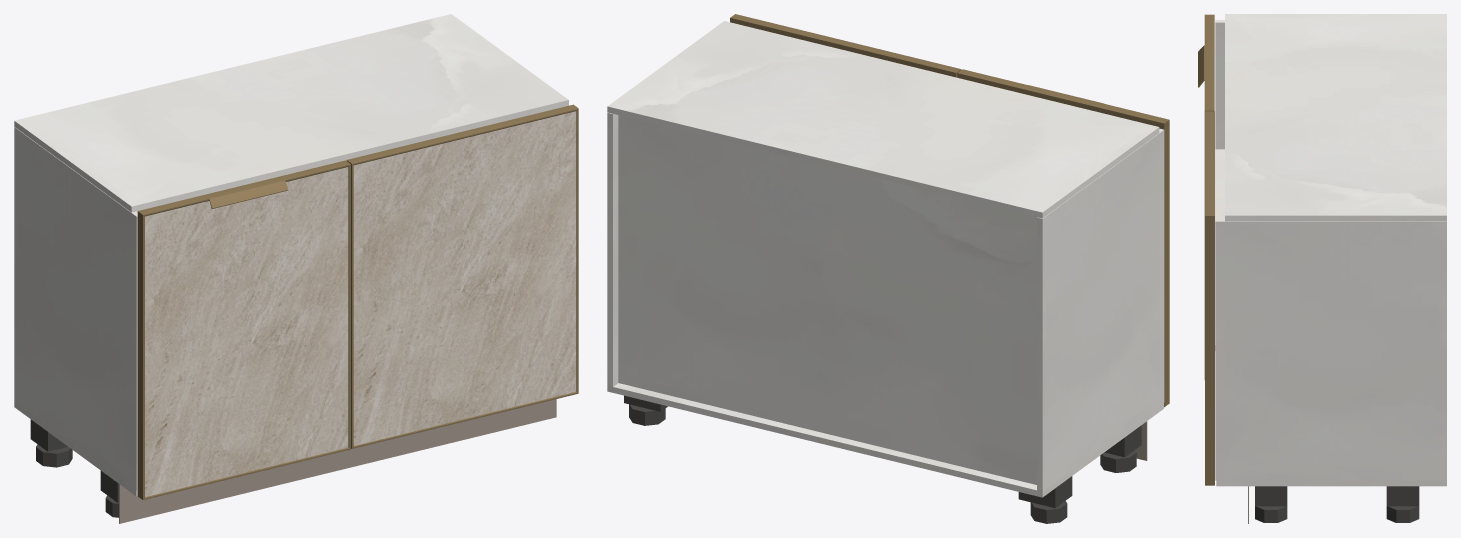
Rendered from BB-SH-TTS-ST-1SX-RHS-XXX-1150-720-560-15.glb.
The picture shows the model from 3 angles, left to right: view 1: azimuth 30°, elevation 25°; view 2: azimuth 150°, elevation 25°; view 3: azimuth 270°, elevation 25°; orthographic projection. The views are drawn at different scales.
Visible parts, largest first — view 1: Object_node_14, Object_node_12, TP_node_1, TP_node, Object_node_16, Extrusion_node_4, Extrusion_node_5, ExtrSplGeo, Extrusion_node, Extrusion_node_8, Extrusion_node_2, Extrusion_node_6 (+4 smaller); view 2: TP_node_3, TP_node_1, TP_node, TP, TP_node_0, Extrusion_node_5, Extrusion_node_4, Extrusion_node, ExtrSplGeo, Plate, Foot, Foot_node_0; view 3: TP_node_0, TP_node_1, Extrusion_node_6, TP, TP_node, Extrusion_node_5, TP_node_2, Plate_node, Plate_node_1, Extrusion_node, ExtrSplGeo, Foot_node (+1 smaller).
Boxes of the visible parts, x1,y1,x2,y2 form: Object_node_14: [353, 111, 576, 445]; Object_node_12: [145, 167, 348, 496]; TP_node_1: [14, 14, 568, 212]; TP_node: [14, 127, 137, 490]; Object_node_16: [119, 399, 556, 523]; Extrusion_node_4: [137, 211, 144, 499]; Extrusion_node_5: [347, 104, 578, 165]; ExtrSplGeo: [204, 176, 288, 208]; Extrusion_node: [138, 160, 350, 216]; Extrusion_node_8: [346, 160, 353, 448]; Extrusion_node_2: [348, 164, 350, 448]; Extrusion_node_6: [576, 109, 578, 392]; TP_node_3: [618, 115, 1036, 484]; TP_node_1: [607, 21, 1159, 218]; TP_node: [1037, 128, 1164, 491]; TP: [607, 383, 1163, 497]; TP_node_0: [607, 112, 618, 386]; Extrusion_node_5: [730, 14, 960, 76]; Extrusion_node_4: [1159, 120, 1169, 407]; Extrusion_node: [957, 69, 1168, 126]; ExtrSplGeo: [1023, 85, 1103, 111]; Plate: [1018, 476, 1072, 507]; Foot: [1030, 501, 1067, 523]; Foot_node_0: [1100, 450, 1136, 472]; TP_node_0: [1215, 219, 1446, 480]; TP_node_1: [1225, 14, 1446, 221]; Extrusion_node_6: [1205, 216, 1214, 485]; TP: [1216, 480, 1446, 486]; TP_node: [1215, 20, 1224, 149]; Extrusion_node_5: [1205, 111, 1214, 215]; TP_node_2: [1215, 149, 1224, 350]; Plate_node: [1386, 486, 1419, 506]; Plate_node_1: [1255, 486, 1287, 506]; Extrusion_node: [1204, 15, 1214, 110]; ExtrSplGeo: [1198, 45, 1214, 87]; Foot_node: [1386, 506, 1419, 522].
Size of what is drawn, in the model's own units: 1.15 by 0.82 by 0.6.
Materials: 6 (3 with a texture image).
